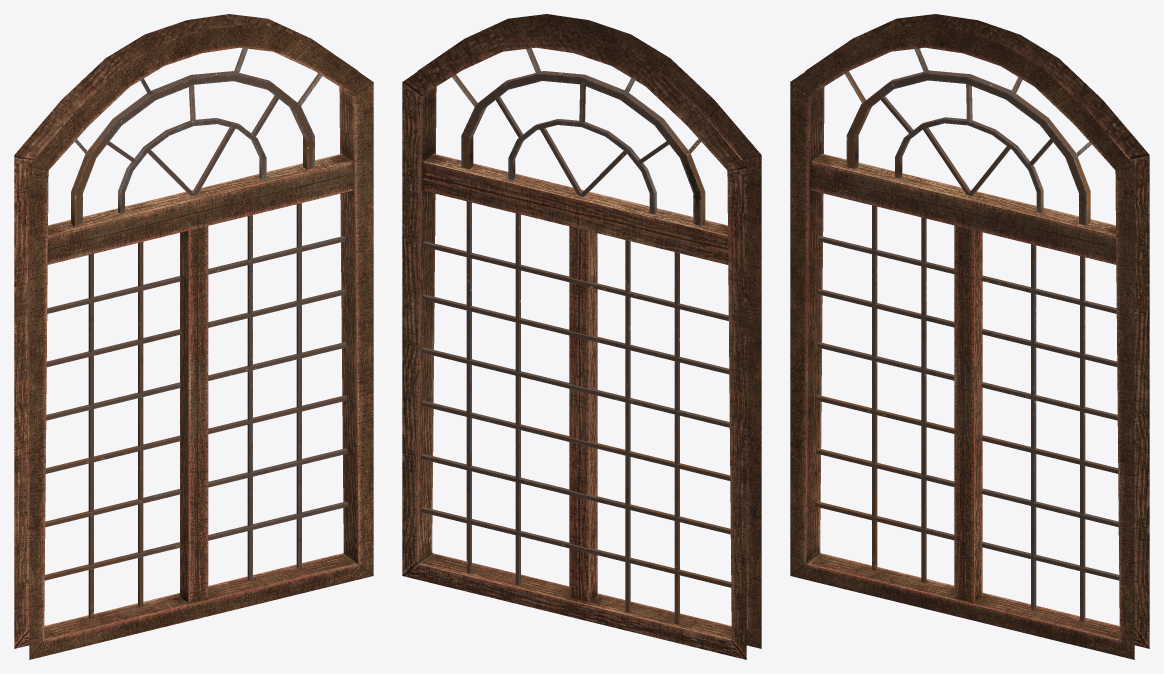
3 views of the same model, side by side, from view 1: azimuth 30°, elevation 25°; view 2: azimuth 150°, elevation 25°; view 3: azimuth 330°, elevation 25° (orthographic).
Parts seen in each view (by area): view 1: win, Object009_Material #48_0; view 2: win, Object009_Material #48_0; view 3: win, Object009_Material #48_0.
Boxes of the visible parts, <box> form: win: <box>14,14,373,659</box>; Object009_Material #48_0: <box>27,48,348,619</box>; win: <box>402,14,761,659</box>; Object009_Material #48_0: <box>420,48,731,624</box>; win: <box>790,14,1149,659</box>; Object009_Material #48_0: <box>815,48,1136,621</box>.
Bounding box in the file's own units: 1300 × 2117 × 98.19.
Materials: 2 (2 with a texture image).
